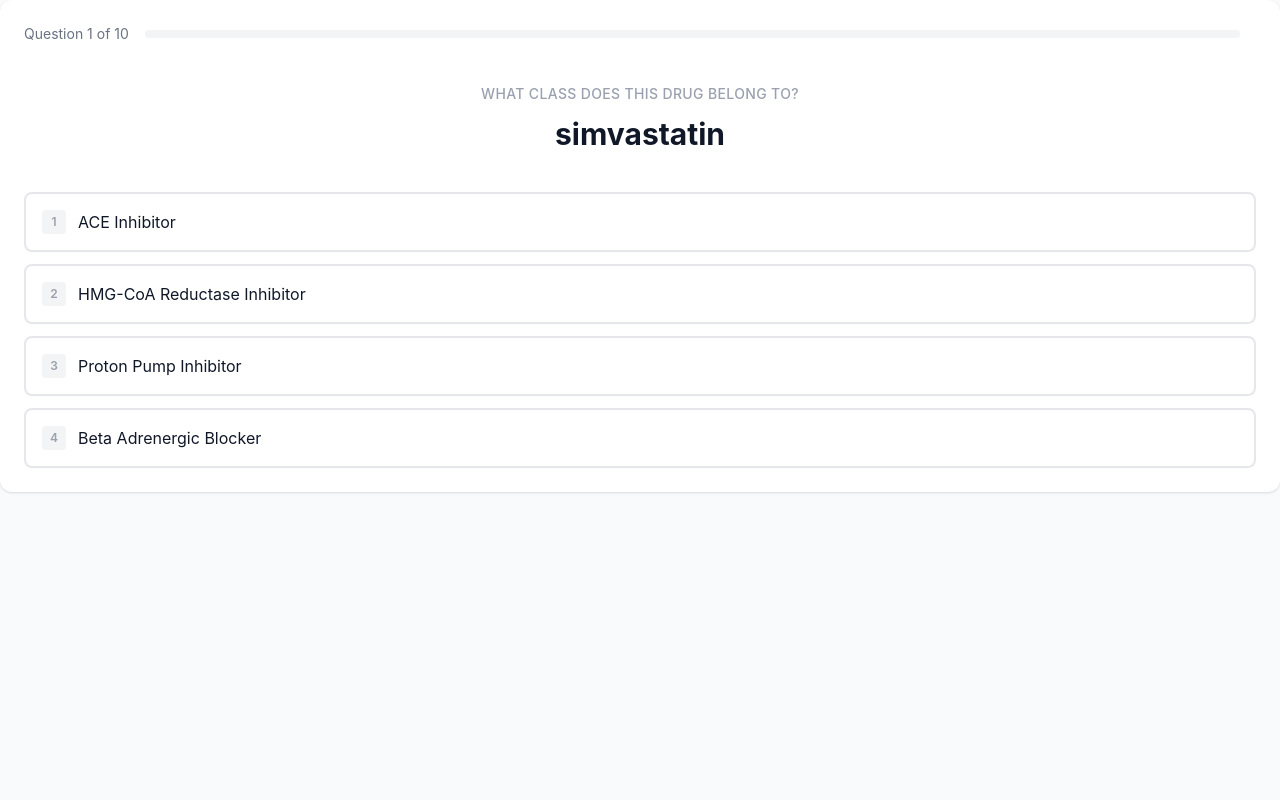
Test case: MultipleChoice › shows Next button after answering
Check: the text "Next Question" is not shown
Click the text "ACE Inhibitor" at (127, 222), box [78, 210, 176, 234]
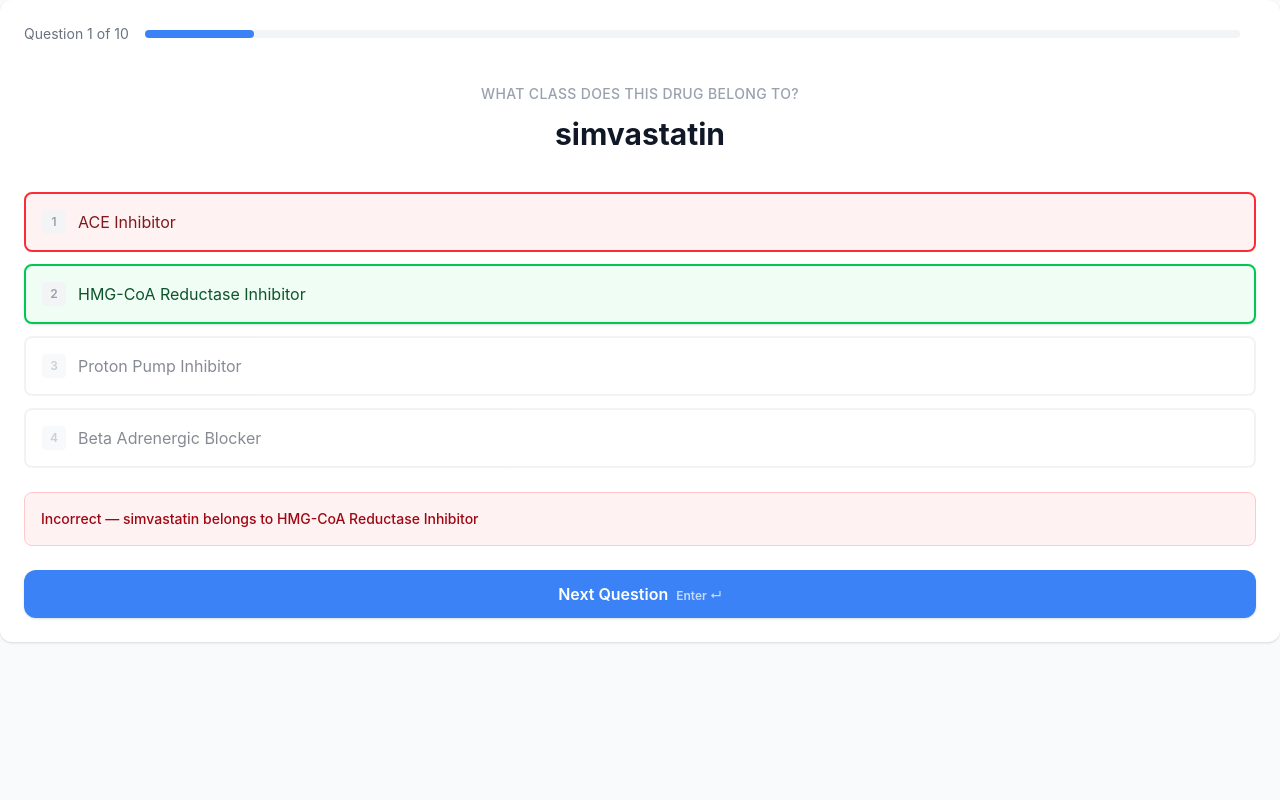
Check: the button "Next Question" is shown, box [24, 570, 1256, 618]
